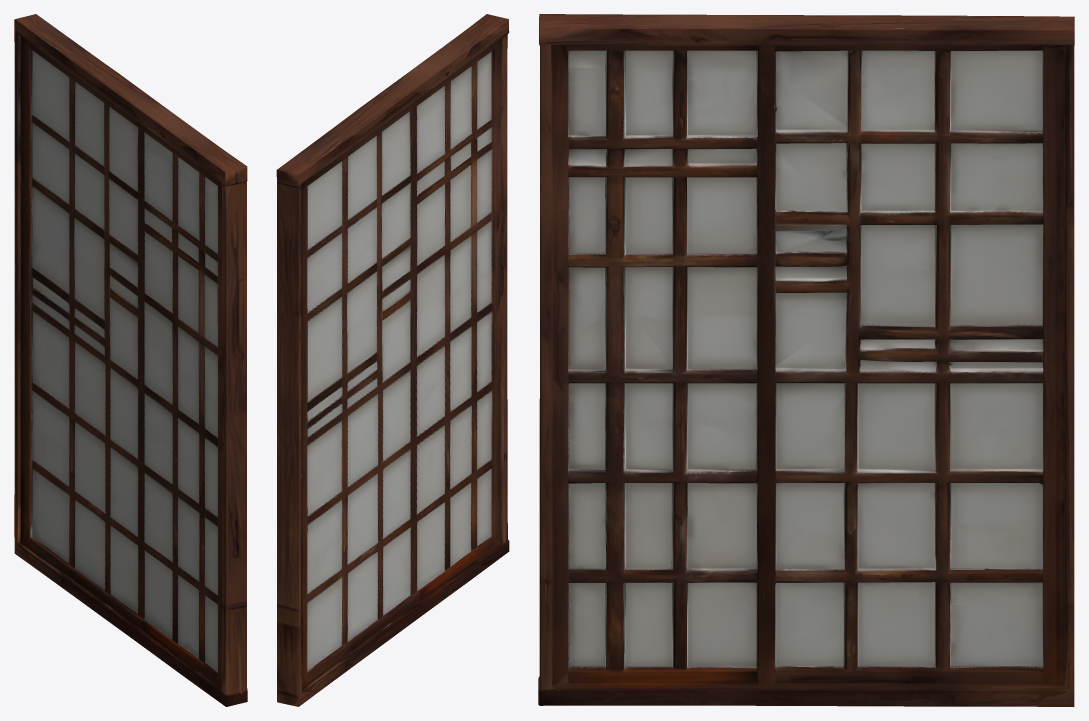
The model's file is shoji-door.glb.
3 renders of one model, left to right at view 1: azimuth 30°, elevation 25°; view 2: azimuth 150°, elevation 25°; view 3: azimuth 270°, elevation 25°, orthographic. The views are drawn at different scales.
Visible parts, largest first — view 1: tripo_node_517c924b-e0c0-432b-839a-d7c81a8383d7; view 2: tripo_node_517c924b-e0c0-432b-839a-d7c81a8383d7; view 3: tripo_node_517c924b-e0c0-432b-839a-d7c81a8383d7.
Boxes of the visible parts, x1,y1,x2,y2 form: tripo_node_517c924b-e0c0-432b-839a-d7c81a8383d7: [14, 14, 247, 706]; tripo_node_517c924b-e0c0-432b-839a-d7c81a8383d7: [276, 14, 509, 706]; tripo_node_517c924b-e0c0-432b-839a-d7c81a8383d7: [538, 14, 1074, 706].
Bounding box in the file's own units: 0.0441 × 0.9998 × 0.7153.
1 material, 1 textured.
